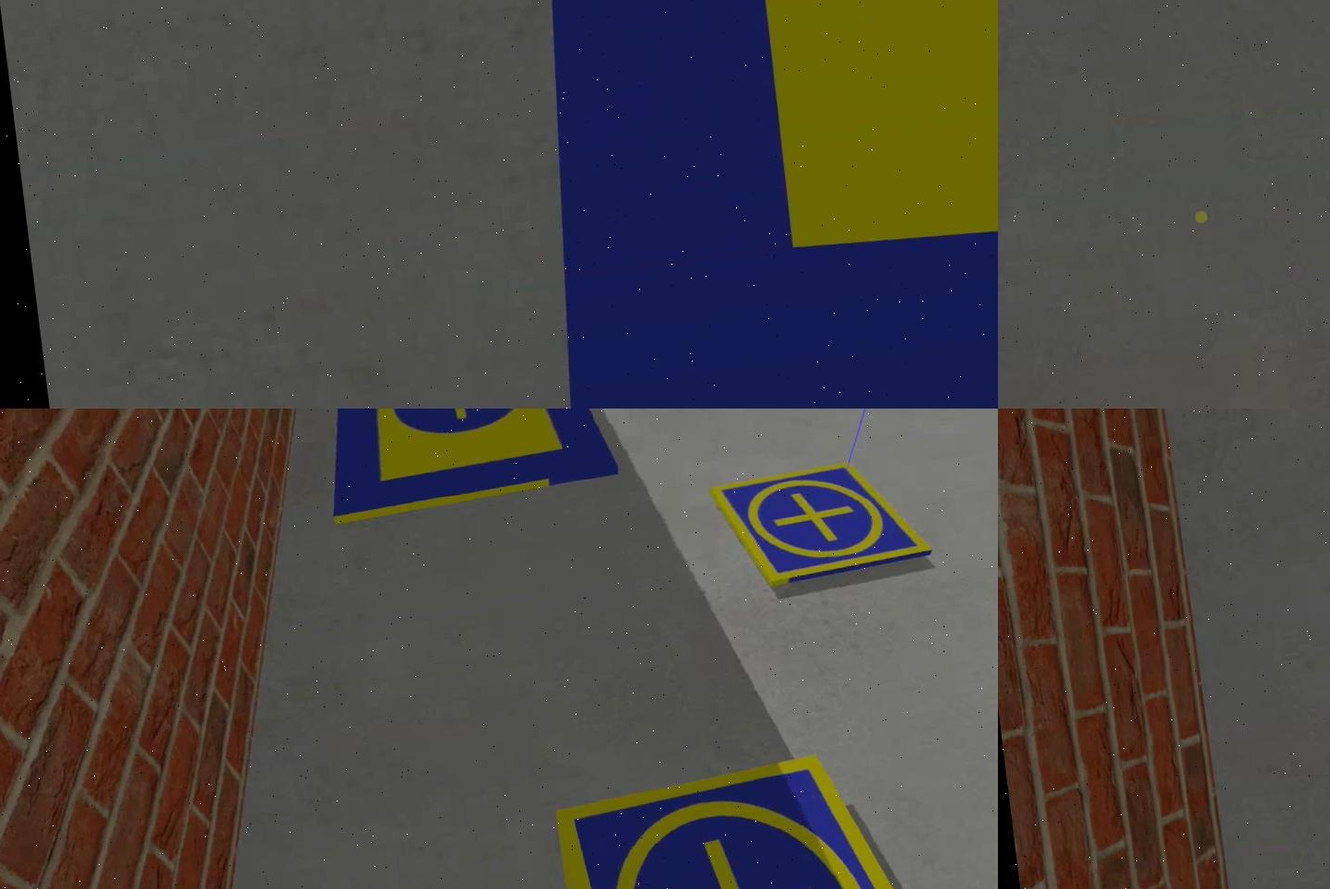large_base: (465, 1, 996, 409), (312, 409, 622, 524)
small_base: (548, 741, 942, 889), (709, 446, 931, 597)
